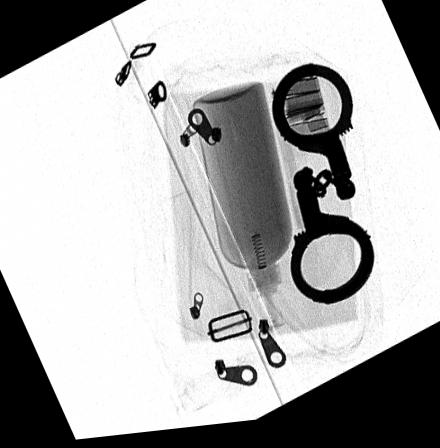HandCuffs: (270, 70, 374, 313)
